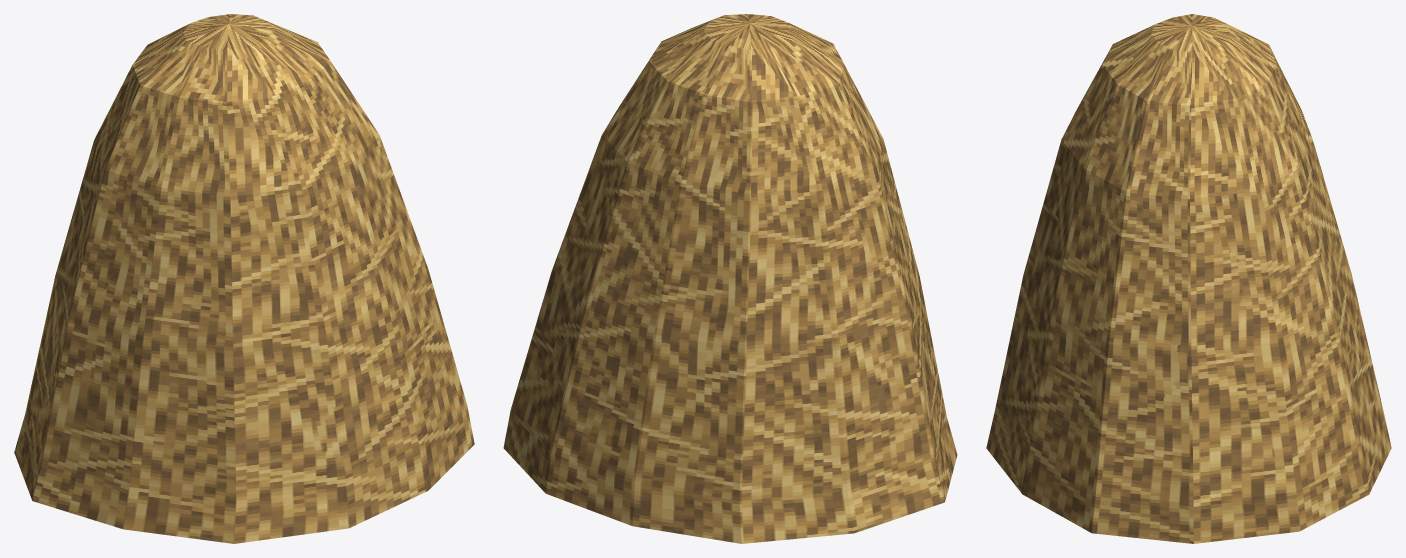
The model's file is Fieno_02_Mucchio.obj.
3 renders of one model, left to right at view 1: azimuth 30°, elevation 25°; view 2: azimuth 150°, elevation 25°; view 3: azimuth 270°, elevation 25°, orthographic. The views are drawn at different scales.
Visible parts, largest first — view 1: Fieno_02_Mucchio; view 2: Fieno_02_Mucchio; view 3: Fieno_02_Mucchio.
Part boxes in pixels (x1,y1,x2,y2): Fieno_02_Mucchio: (14,14,474,543); Fieno_02_Mucchio: (503,14,957,543); Fieno_02_Mucchio: (986,14,1391,543).
Size of the model in its own units: 3.15 by 3.14 by 2.77.
1 material, 1 textured.
